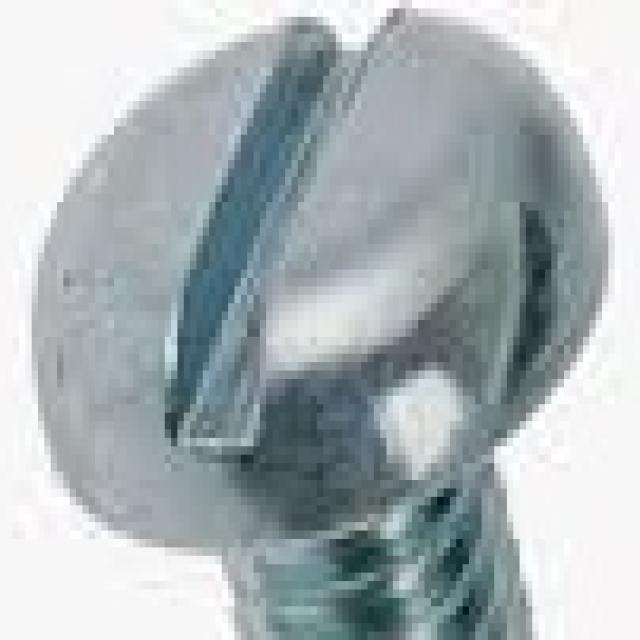Slotted: (19, 12, 613, 518)
